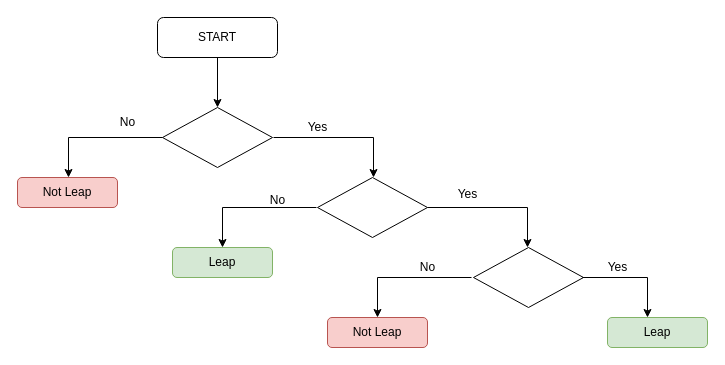
This 725x365 diagram has some shape labels left out. The box of each missing label's shape, as (x1, y1, x2, y2) in pixels:
Is Divisible by 100: (316, 176, 428, 238)
Is Divisible by 4: (162, 106, 272, 168)
Is Divisible by 400: (472, 246, 584, 308)
